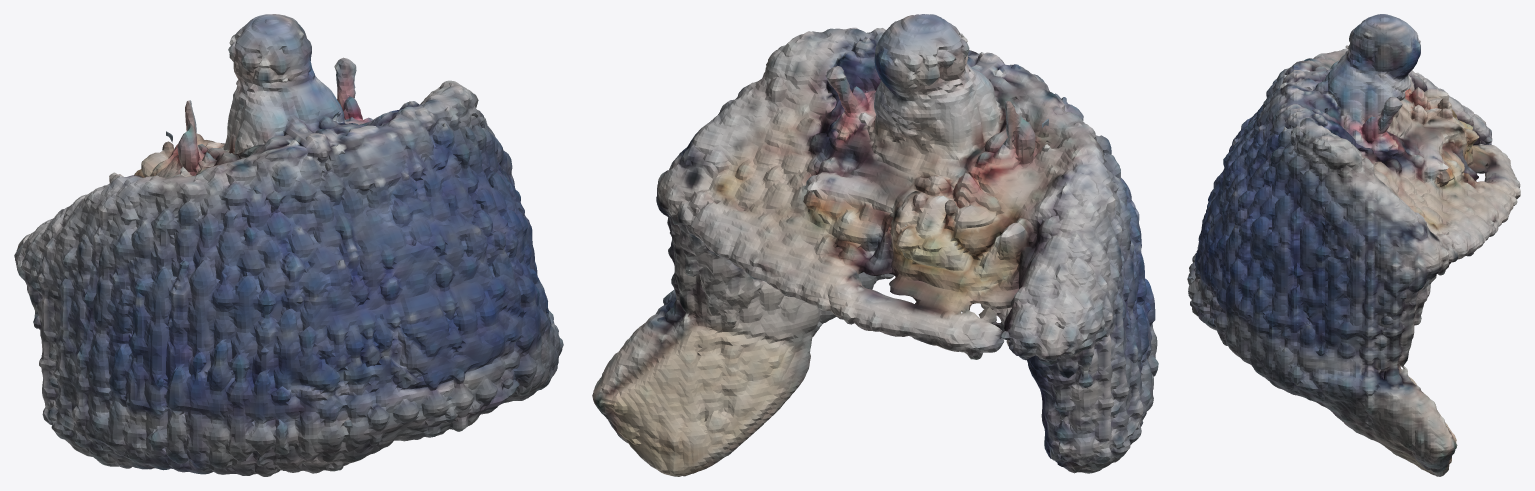
File: jawatimur.glb
3 renders of one model, left to right at view 1: azimuth 30°, elevation 25°; view 2: azimuth 150°, elevation 25°; view 3: azimuth 270°, elevation 25°, orthographic. The views are drawn at different scales.
Visible parts, largest first — view 1: world; view 2: world; view 3: world.
Part boxes in pixels (left/top/right/bottom): world: left=14, top=14, right=563, bottom=476; world: left=592, top=14, right=1158, bottom=476; world: left=1187, top=14, right=1520, bottom=476.
Size of the model in its own units: 0.9945 by 0.9091 by 0.7319.
